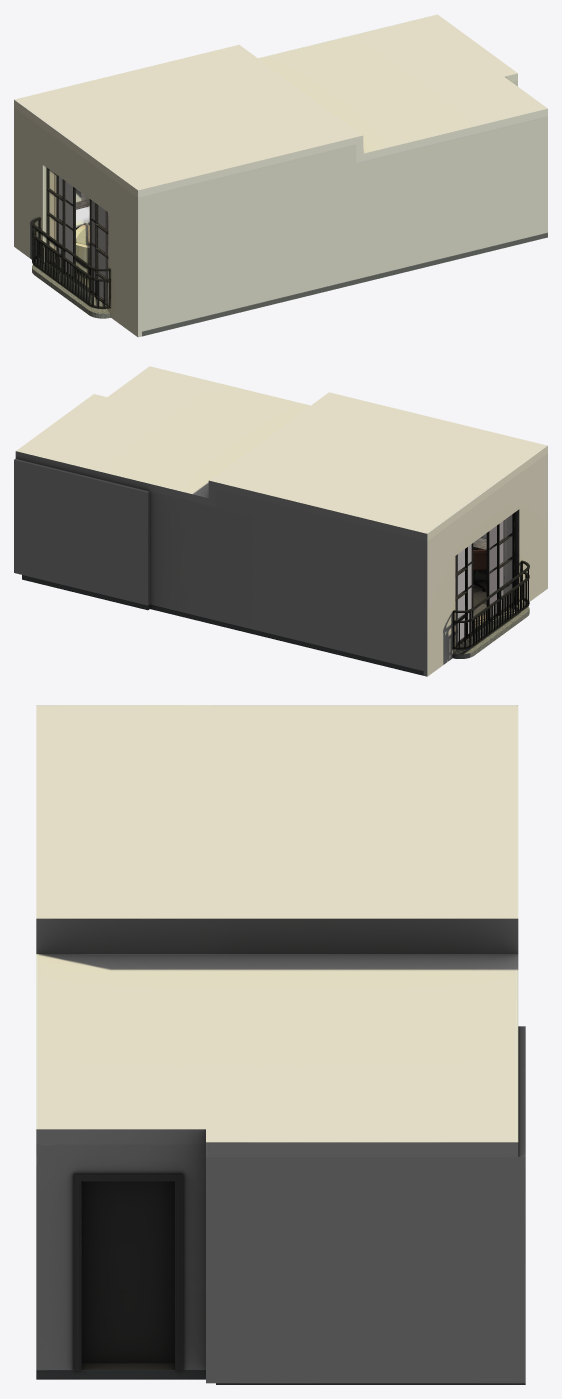
File: fox_hotel_guestroom.glb
The picture shows the model from 3 angles, top to bottom: view 1: azimuth 30°, elevation 25°; view 2: azimuth 150°, elevation 25°; view 3: azimuth 270°, elevation 25°; orthographic projection. The views are drawn at different scales.
Visible parts, largest first — view 1: Group_18, Group_30, Model_0, Group_250, Group_289, Group_286, Group_285, Group_284, Group_287; view 2: Group_18, Group_30, Model_0, Group_250, Group_289, Group_286, Group_285, Group_287, Group_284; view 3: Group_30, Group_18, Model_0.
Boxes of the visible parts, left/top/right/bottom form: Group_18: left=14, top=81, right=547, bottom=337; Group_30: left=14, top=14, right=547, bottom=197; Model_0: left=46, top=167, right=547, bottom=336; Group_250: left=32, top=217, right=111, bottom=308; Group_289: left=32, top=261, right=110, bottom=318; Group_286: left=91, top=200, right=105, bottom=299; Group_285: left=59, top=176, right=72, bottom=275; Group_284: left=50, top=170, right=62, bottom=267; Group_287: left=99, top=206, right=107, bottom=302; Group_18: left=14, top=453, right=547, bottom=676; Group_30: left=15, top=366, right=547, bottom=540; Model_0: left=22, top=512, right=515, bottom=675; Group_250: left=452, top=560, right=529, bottom=649; Group_289: left=452, top=603, right=529, bottom=658; Group_286: left=489, top=521, right=503, bottom=616; Group_285: left=458, top=544, right=471, bottom=641; Group_287: left=500, top=515, right=511, bottom=610; Group_284: left=455, top=549, right=464, bottom=643; Group_30: left=36, top=705, right=518, bottom=1156; Group_18: left=36, top=1026, right=525, bottom=1383; Model_0: left=36, top=1173, right=525, bottom=1384.
Size of the model in its own units: 9.58 by 3.07 by 4.77.
39 materials, 32 textured.
